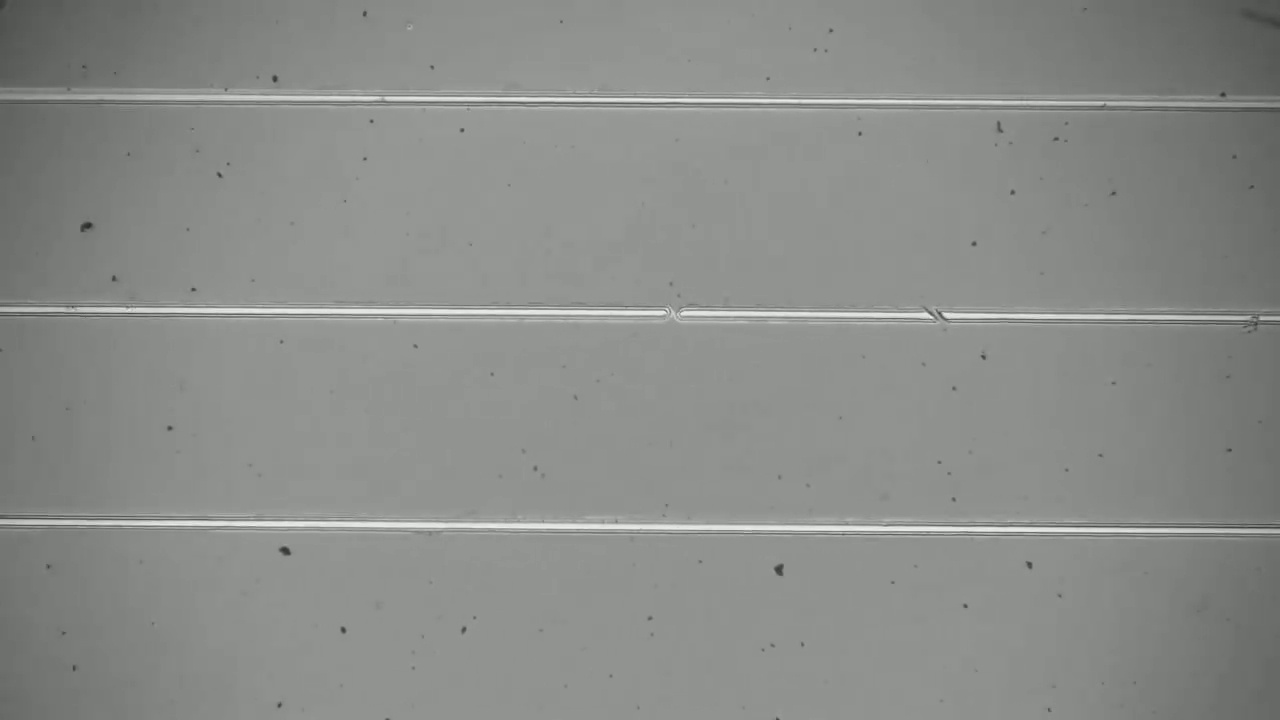open: (912, 294, 956, 331), (656, 295, 690, 326)
stains_enbedded: (1232, 306, 1268, 343)
